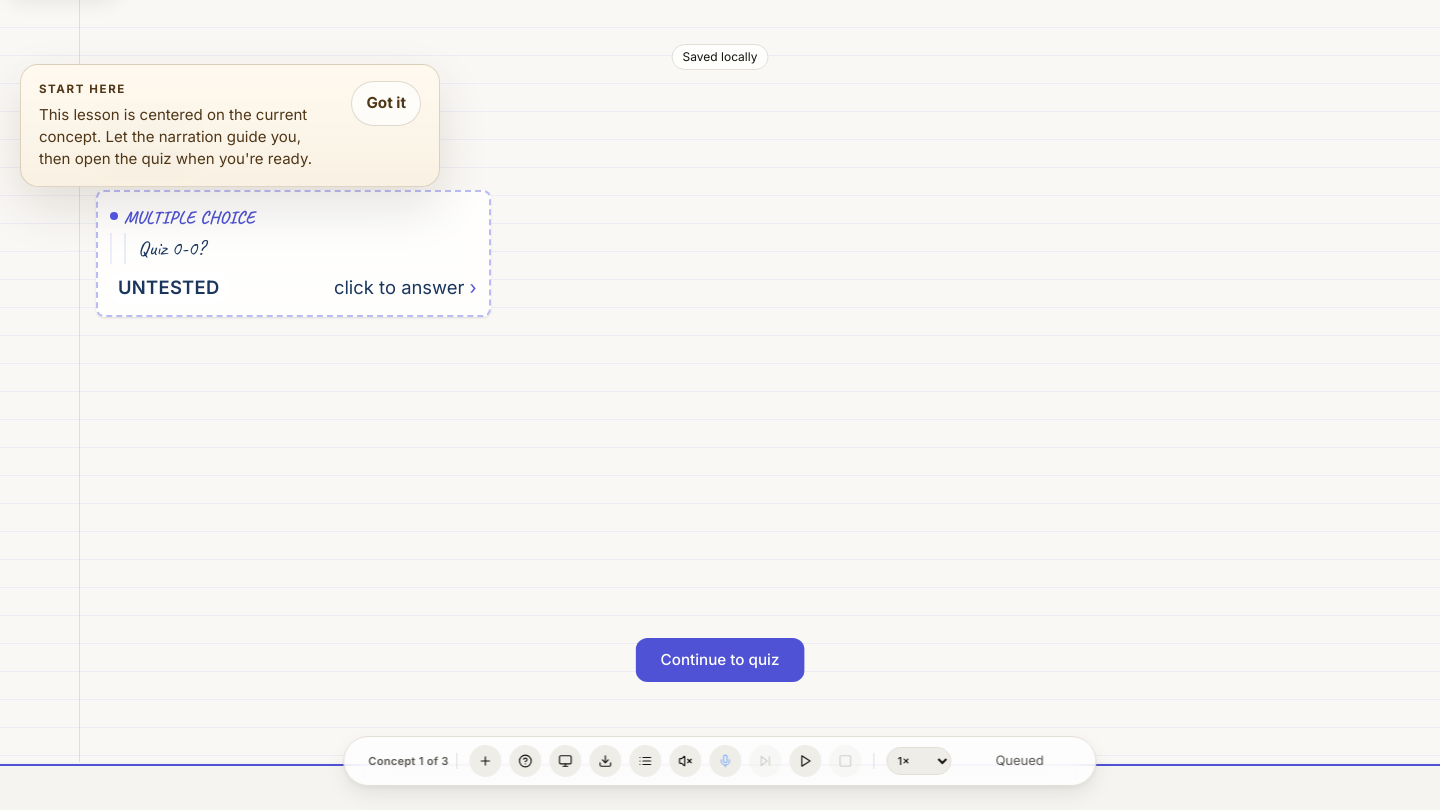
Scenario: CanvasPage › learning cue › dismisses the cue when the dismiss button is clicked
The image size is (1440, 810).
Click the button "Got it". click: (386, 103)
box: [351,81,421,126]
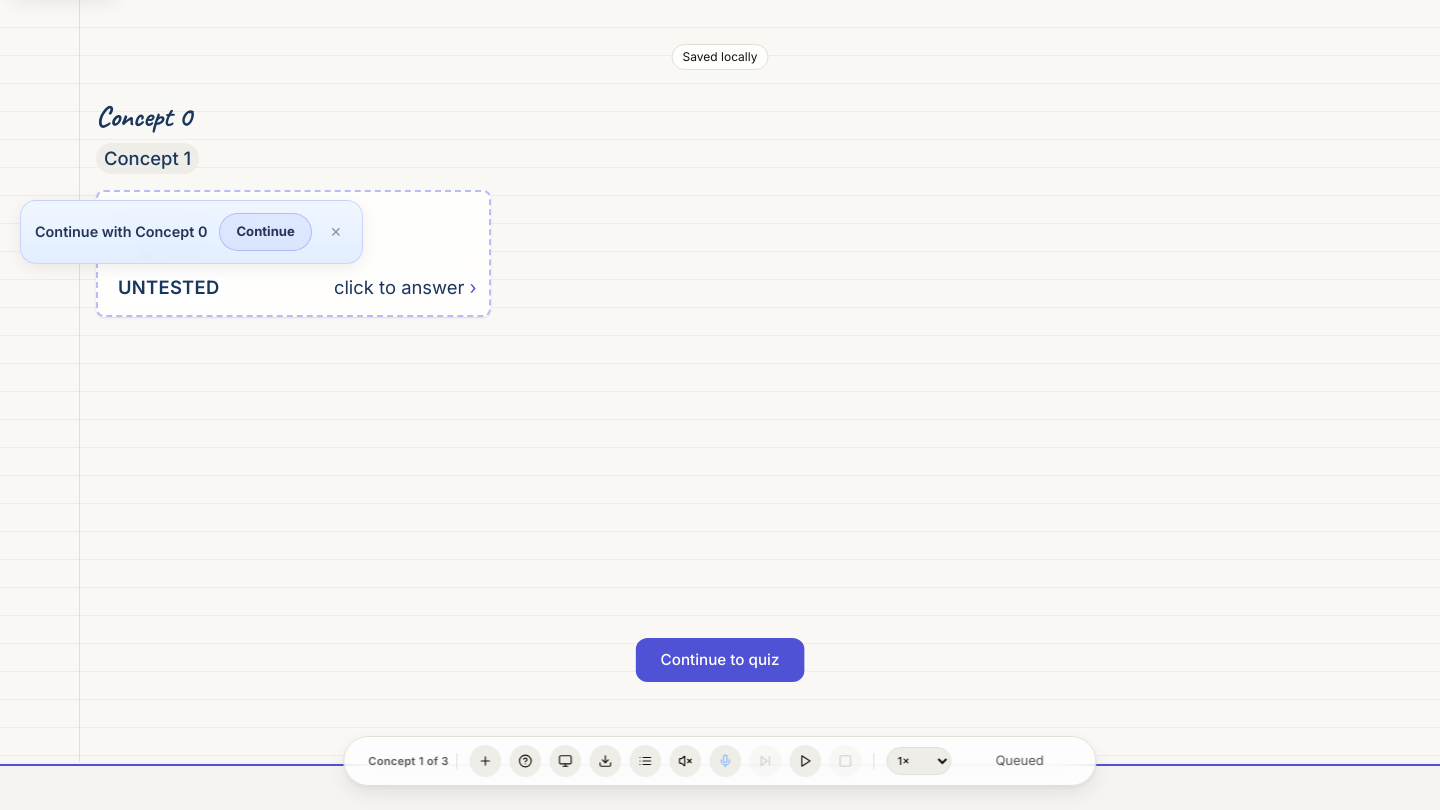
Now the button "Continue" is shown, box [219,213,312,251]
Click the button named "Dismiss". click: (336, 232)
box: [324,220,348,244]
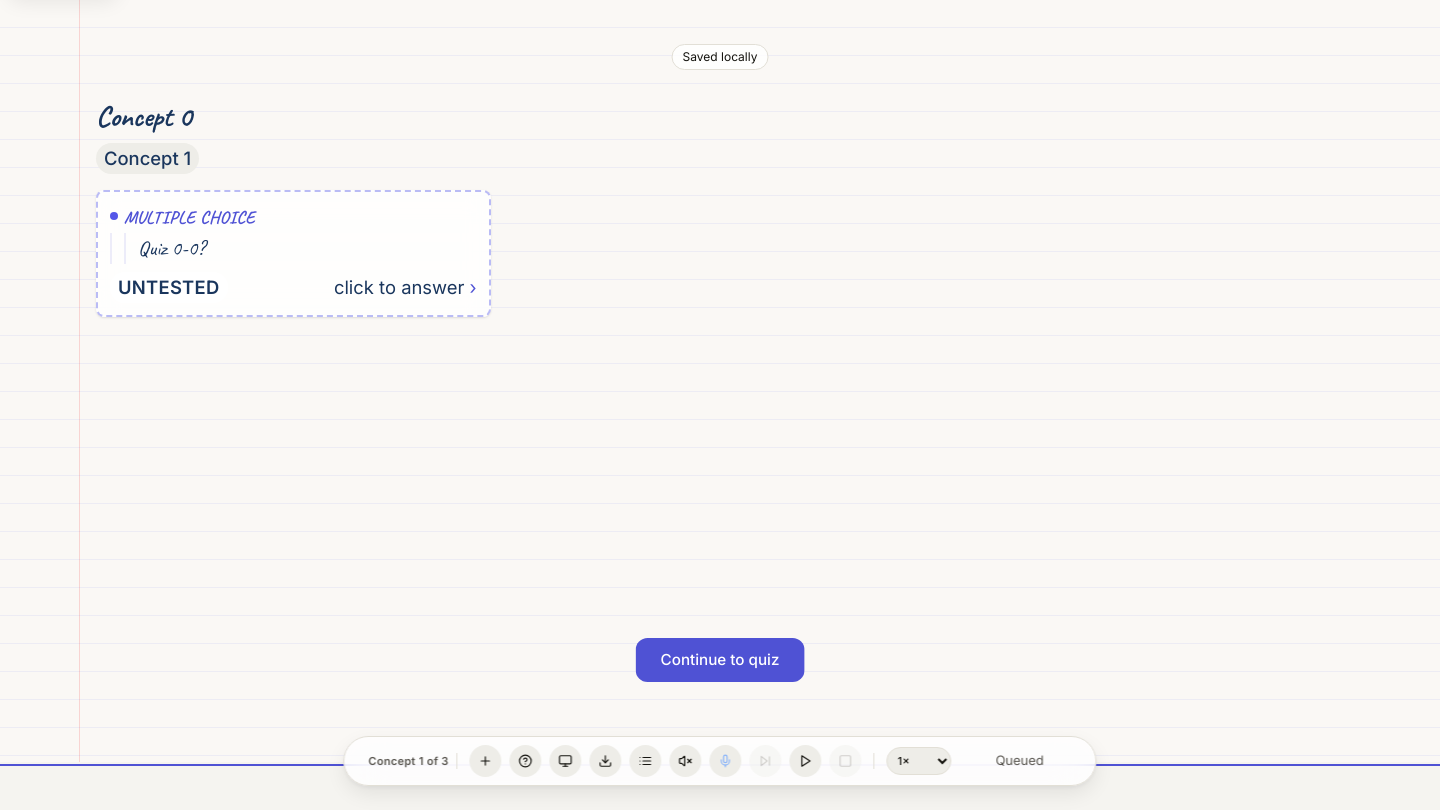
Now the text "Continue with" is gone
